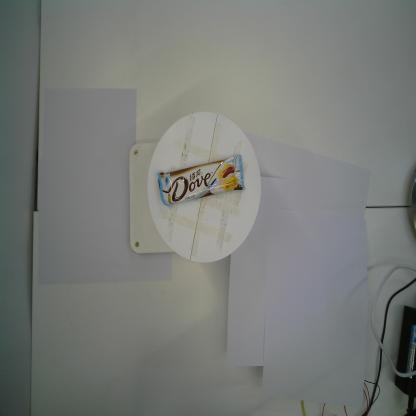Chocolate: (157, 154, 245, 207)
